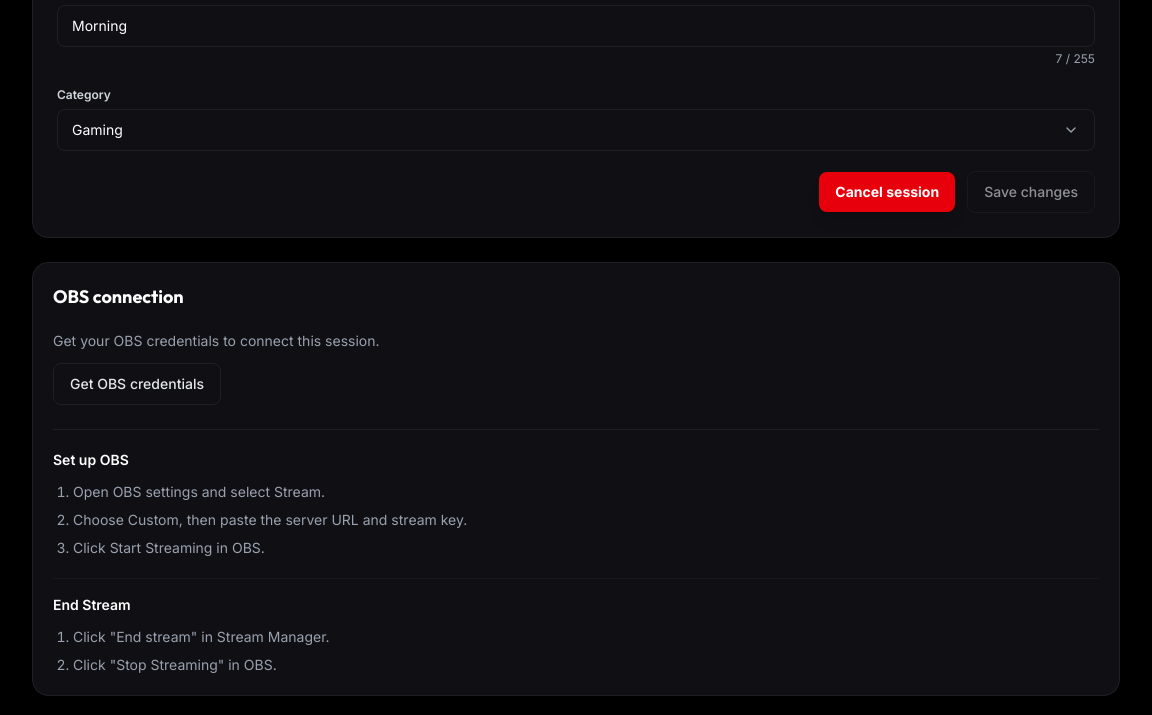
Test: Stream Manager › clears credentials after confirmed End
(page scrolled)
What coordinates should you click on to do the following:
click the button "Get OBS credentials"
I would click on:
 (137, 384)
Its box is [53,363,221,405].
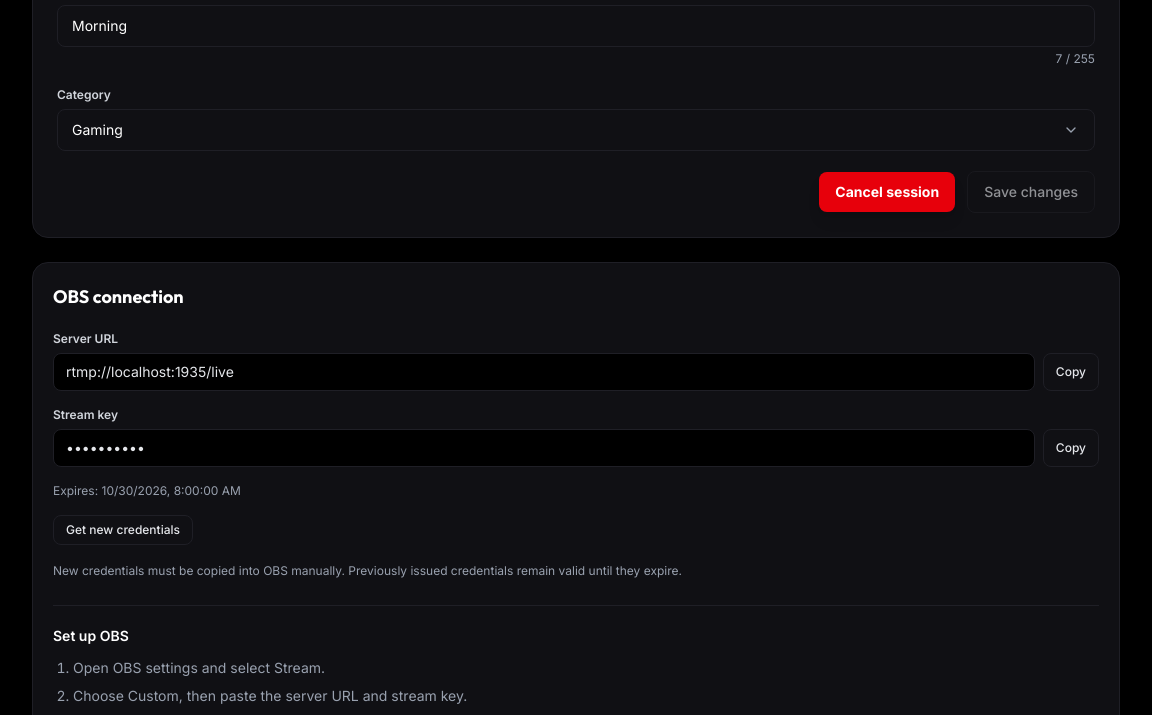
Now the password field labelled "Stream key" is shown, box [53,429,1035,467]
What coordinates should you click on to do the following:
click the button "Cancel session"
I would click on:
 (887, 192)
Its box is [819,172,955,212].
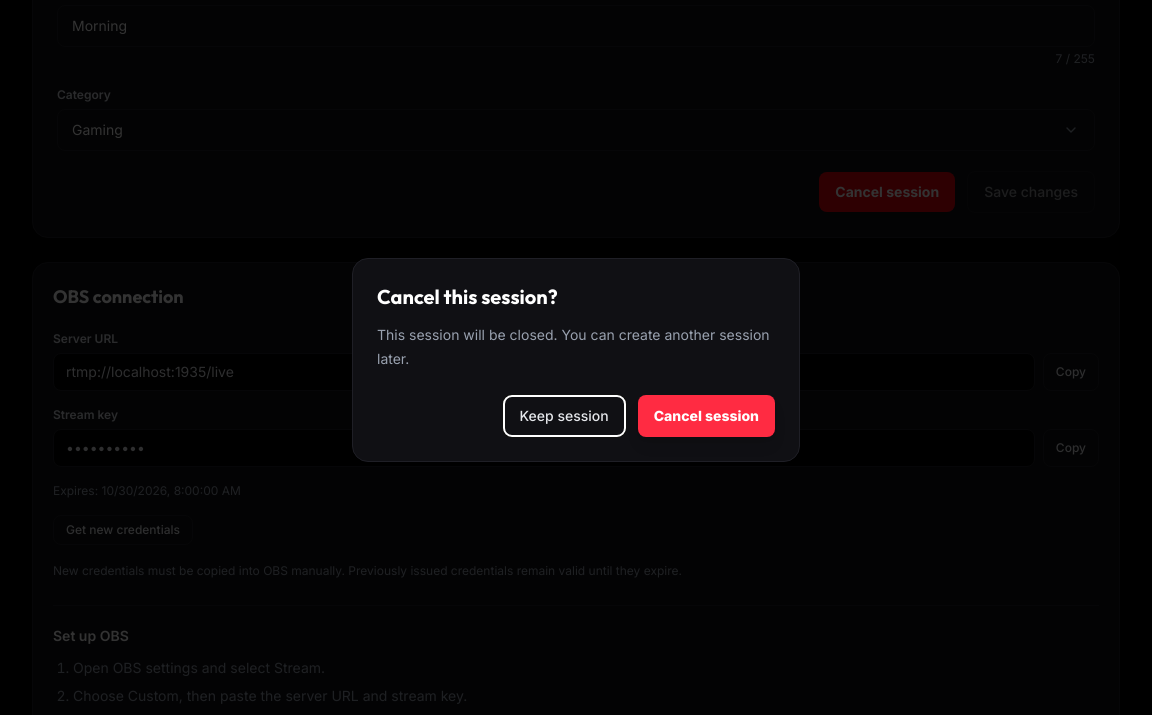
What coordinates should you click on to do the following:
click the button "Cancel session"
I would click on:
 (706, 416)
Its box is [638,395,775,437].
(page scrolled)
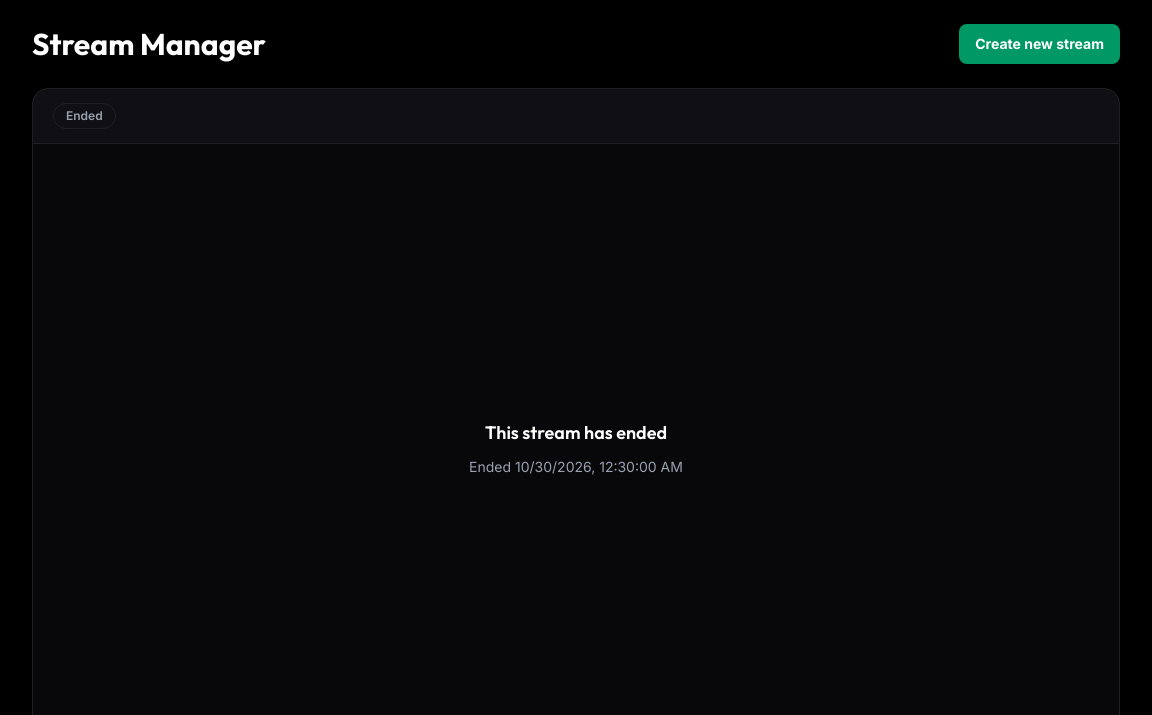
Now the text "This stream has ended" is shown, box [485,419,667,447]
Now the label labelled "Stream key" is gone
Now the button "Create new stream" is shown, box [959,24,1120,64]
